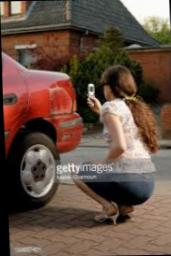Bumper: (50, 118, 83, 152)
Fender: (30, 74, 85, 117)
